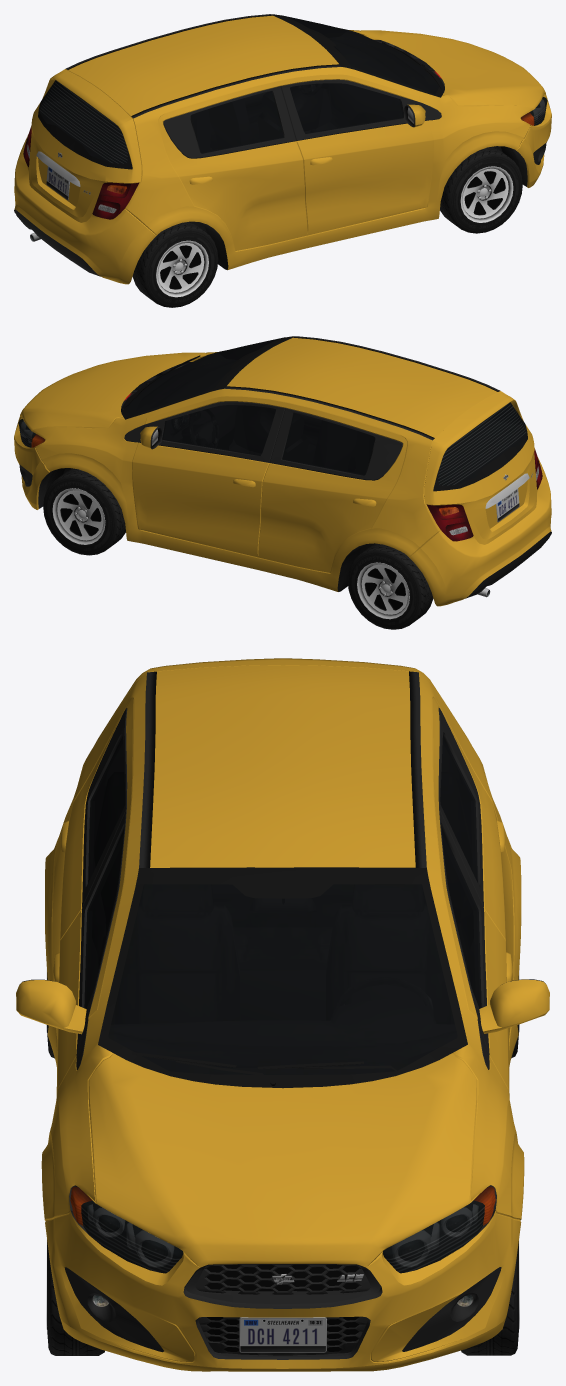
File: ace11.glb
3 views of the same model, one above another, from view 1: azimuth 30°, elevation 25°; view 2: azimuth 150°, elevation 25°; view 3: azimuth 270°, elevation 25° (orthographic). The views are drawn at different scales.
Visible parts, largest first — view 1: Ace11_Body_Ace11_Bodymat_0, Ace11_Interior_UCB_Interiors_2_0, Ace11_Bottom_UCB_BOTTOM_LT_0, Ace11_Hood_Ace11_Bodymat_0, Ace11_Bumper_Rear_Ace11_Bodymat_0, Ace11_WheelStock_RR_RB1c_Tire_1k_0, Ace11_WheelStock_FR_RB1c_Tire_1k_0, Ace11_Glass_Passenger_UCB_Lights_and_Glass_Transperent_0, Ace11_Glass_Body_UCB_Lights_and_Glass_Transperent_0, Ace11_Glass_Rear_UCB_Lights_and_Glass_Transperent_0, Ace11_Windshield_UCB_Lights_and_Glass_Transperent_0, Ace11_Bumper_Front_Ace11_Bodymat_0 (+4 smaller); view 2: Ace11_Body_Ace11_Bodymat_0, Ace11_Interior_UCB_Interiors_2_0, Ace11_Bottom_UCB_BOTTOM_LT_0, Ace11_Hood_Ace11_Bodymat_0, Ace11_Bumper_Rear_Ace11_Bodymat_0, Ace11_WheelStock_RL_RB1c_Tire_1k_0, Ace11_WheelStock_FL_RB1c_Tire_1k_0, Ace11_Glass_Driver_UCB_Lights_and_Glass_Transperent_0, Ace11_Glass_Body_UCB_Lights_and_Glass_Transperent_0, Ace11_Glass_Rear_UCB_Lights_and_Glass_Transperent_0, Ace11_Windshield_UCB_Lights_and_Glass_Transperent_0, Ace11_Bumper_Front_Ace11_Bodymat_0 (+5 smaller); view 3: Ace11_Body_Ace11_Bodymat_0, Ace11_Hood_Ace11_Bodymat_0, Ace11_Interior_UCB_Interiors_2_0, Ace11_Windshield_UCB_Lights_and_Glass_Transperent_0, Ace11_Bottom_UCB_BOTTOM_LT_0, Ace11_Bumper_Front_Ace11_Bodymat_0, Ace11_Bumper_Front_Inner_UCB_BOTTOM_LT_0, Ace11_Headlights_Glass_UCB_Lights_and_Glass_Transperent_0, Ace11_Glass_Body_UCB_Lights_and_Glass_Transperent_0, Ace11_Numberplates_Front_Numberplates_Misk_U_0, Ace11_Glass_Driver_UCB_Lights_and_Glass_Transperent_0, Ace11_Glass_Passenger_UCB_Lights_and_Glass_Transperent_0 (+4 smaller).
Boxes of the visible parts, x1,y1,x2,y2 form: Ace11_Body_Ace11_Bodymat_0: (27, 15, 534, 269); Ace11_Interior_UCB_Interiors_2_0: (40, 17, 438, 162); Ace11_Bottom_UCB_BOTTOM_LT_0: (30, 14, 544, 269); Ace11_Hood_Ace11_Bodymat_0: (358, 30, 545, 108); Ace11_Bumper_Rear_Ace11_Bodymat_0: (14, 137, 156, 284); Ace11_WheelStock_RR_RB1c_Tire_1k_0: (132, 221, 218, 307); Ace11_WheelStock_FR_RB1c_Tire_1k_0: (440, 146, 522, 233); Ace11_Glass_Passenger_UCB_Lights_and_Glass_Transperent_0: (290, 83, 403, 133); Ace11_Glass_Body_UCB_Lights_and_Glass_Transperent_0: (190, 91, 283, 153); Ace11_Glass_Rear_UCB_Lights_and_Glass_Transperent_0: (39, 81, 127, 163); Ace11_Windshield_UCB_Lights_and_Glass_Transperent_0: (283, 15, 438, 94); Ace11_Bumper_Front_Ace11_Bodymat_0: (516, 94, 551, 187); Ace11_Body_Ace11_Bodymat_0: (31, 337, 538, 591); Ace11_Interior_UCB_Interiors_2_0: (127, 339, 525, 484); Ace11_Bottom_UCB_BOTTOM_LT_0: (21, 336, 529, 597); Ace11_Hood_Ace11_Bodymat_0: (20, 352, 207, 430); Ace11_Bumper_Rear_Ace11_Bodymat_0: (409, 459, 551, 606); Ace11_WheelStock_RL_RB1c_Tire_1k_0: (347, 543, 433, 629); Ace11_WheelStock_FL_RB1c_Tire_1k_0: (43, 468, 125, 555); Ace11_Glass_Driver_UCB_Lights_and_Glass_Transperent_0: (162, 405, 275, 455); Ace11_Glass_Body_UCB_Lights_and_Glass_Transperent_0: (282, 412, 375, 475); Ace11_Glass_Rear_UCB_Lights_and_Glass_Transperent_0: (438, 403, 526, 485); Ace11_Windshield_UCB_Lights_and_Glass_Transperent_0: (126, 337, 282, 415); Ace11_Bumper_Front_Ace11_Bodymat_0: (14, 416, 49, 509); Ace11_Body_Ace11_Bodymat_0: (16, 658, 549, 1220); Ace11_Hood_Ace11_Bodymat_0: (88, 1053, 477, 1267); Ace11_Interior_UCB_Interiors_2_0: (87, 740, 478, 1074); Ace11_Windshield_UCB_Lights_and_Glass_Transperent_0: (108, 884, 457, 1074); Ace11_Bottom_UCB_BOTTOM_LT_0: (19, 671, 545, 1272); Ace11_Bumper_Front_Ace11_Bodymat_0: (45, 1210, 521, 1371); Ace11_Bumper_Front_Inner_UCB_BOTTOM_LT_0: (64, 1210, 501, 1359); Ace11_Headlights_Glass_UCB_Lights_and_Glass_Transperent_0: (81, 1200, 484, 1273); Ace11_Glass_Body_UCB_Lights_and_Glass_Transperent_0: (88, 736, 477, 882); Ace11_Numberplates_Front_Numberplates_Misk_U_0: (239, 1317, 326, 1352); Ace11_Glass_Driver_UCB_Lights_and_Glass_Transperent_0: (441, 829, 481, 1008); Ace11_Glass_Passenger_UCB_Lights_and_Glass_Transperent_0: (84, 829, 124, 1008).
Size of the model in its own units: 3.84 by 1.45 by 1.83.
8 materials, 7 textured.
